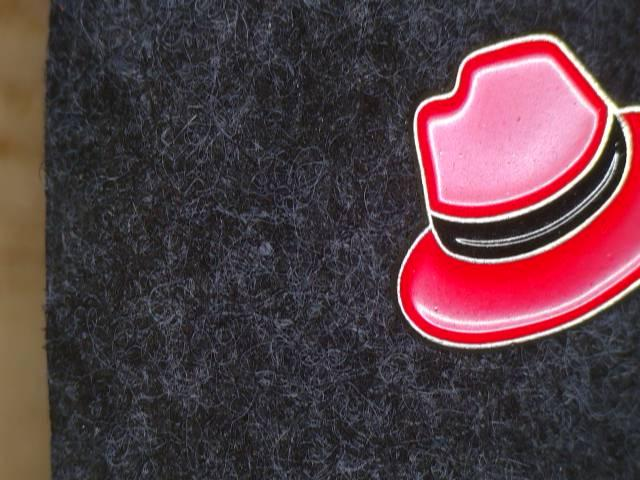Red-Hat: (361, 9, 640, 371)
